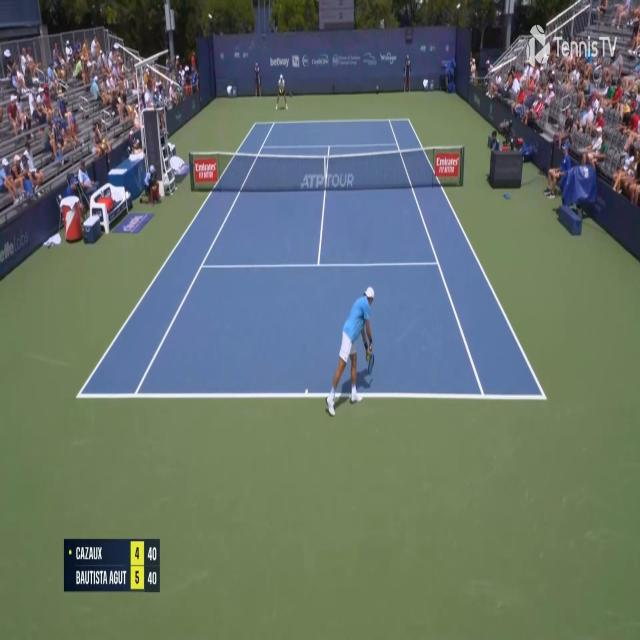tennis-player: (322, 284, 376, 422), (275, 74, 290, 110)
